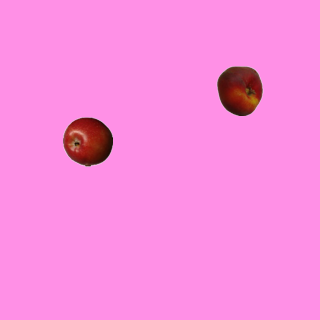Apple Braeburn: (62, 116, 112, 166)
Nectarine Flat: (214, 65, 264, 115)
